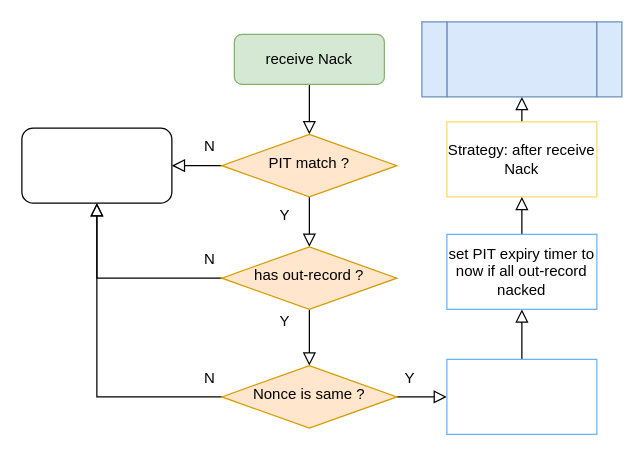
Some shapes in this 644 by 456 pixel diagram are drawn without their labels. The centre of each missing label's shape, as x and y in pixels:
"drop" belongs at (x=96, y=165).
"Outgoing Nack" belongs at (x=521, y=59).
"record Nack to out-record" belongs at (x=521, y=396).
